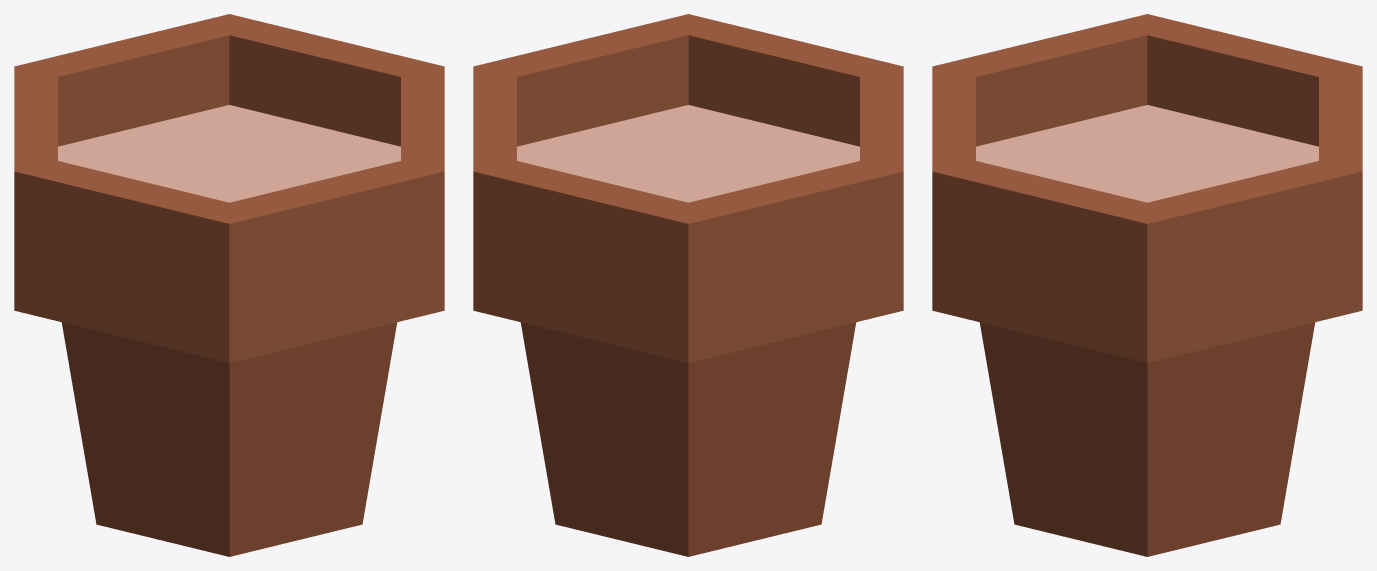
The model's file is pot_small.glb.
3 renders of one model, left to right at view 1: azimuth 30°, elevation 25°; view 2: azimuth 150°, elevation 25°; view 3: azimuth 270°, elevation 25°, orthographic.
Visible parts, largest first — view 1: pot_small; view 2: pot_small; view 3: pot_small.
Boxes of the visible parts, x1,y1,x2,y2 form: pot_small: [14, 14, 444, 556]; pot_small: [473, 14, 903, 556]; pot_small: [932, 14, 1362, 556].
Size of the model in its own units: 0.3234 by 0.268 by 0.2801.
